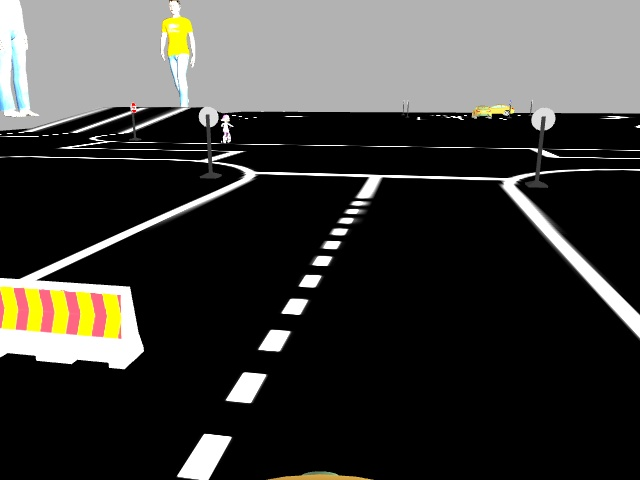ClosedRoadStand: (0, 279, 138, 369)
